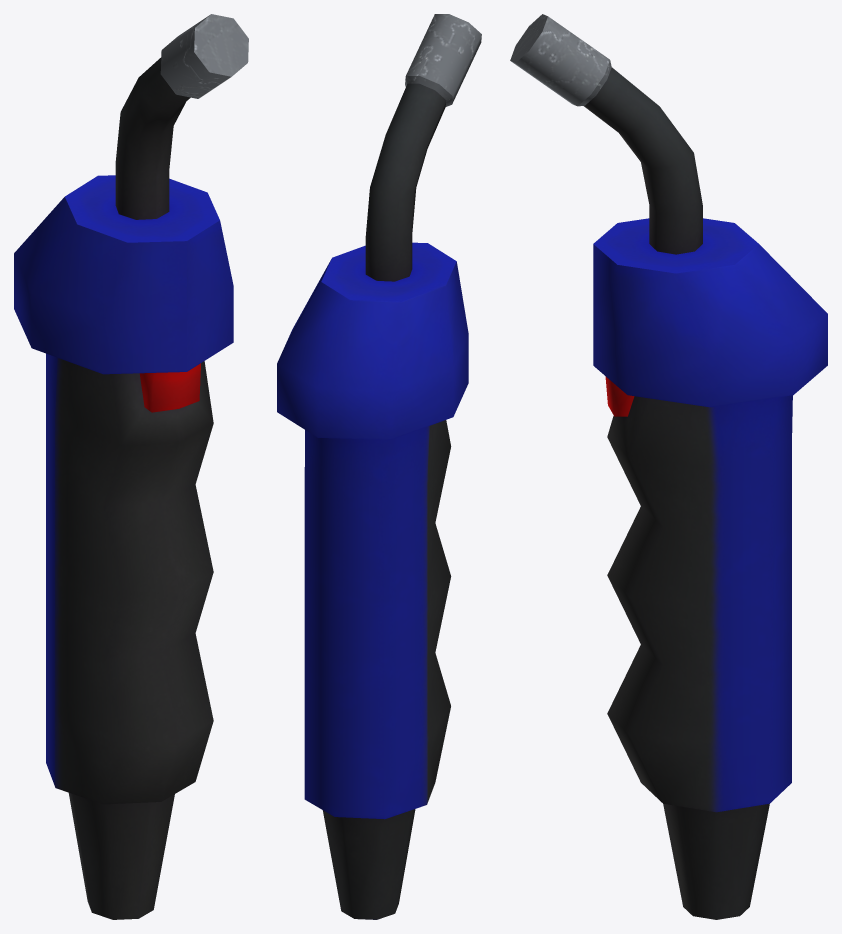
Rendered from tool_Welder.fbx.
3 views of the same model, side by side, from view 1: azimuth 30°, elevation 25°; view 2: azimuth 150°, elevation 25°; view 3: azimuth 270°, elevation 25° (orthographic). The views are drawn at different scales.
Visible parts, largest first — view 1: Welding; view 2: Welding; view 3: Welding.
Boxes of the visible parts, x1,y1,x2,y2 form: Welding: (14,14,248,919); Welding: (277,14,481,919); Welding: (510,14,827,919).
Size of the model in its own units: 0.0665 by 0.33 by 0.1067.
